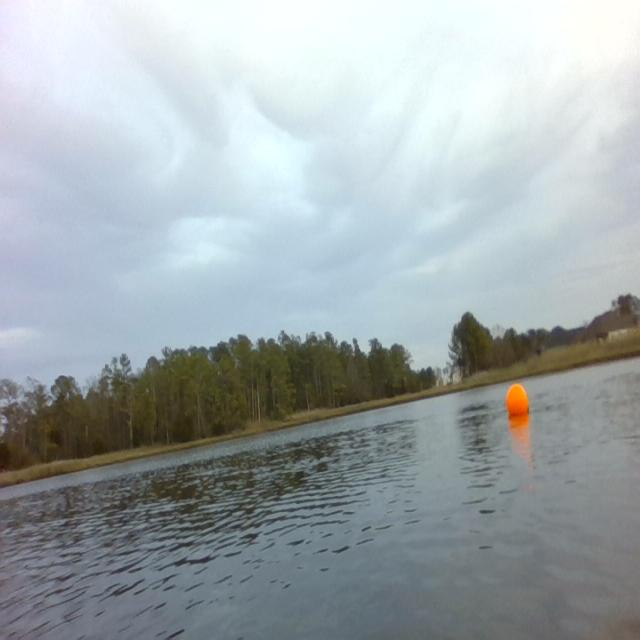Buoy: (504, 381, 530, 423)
